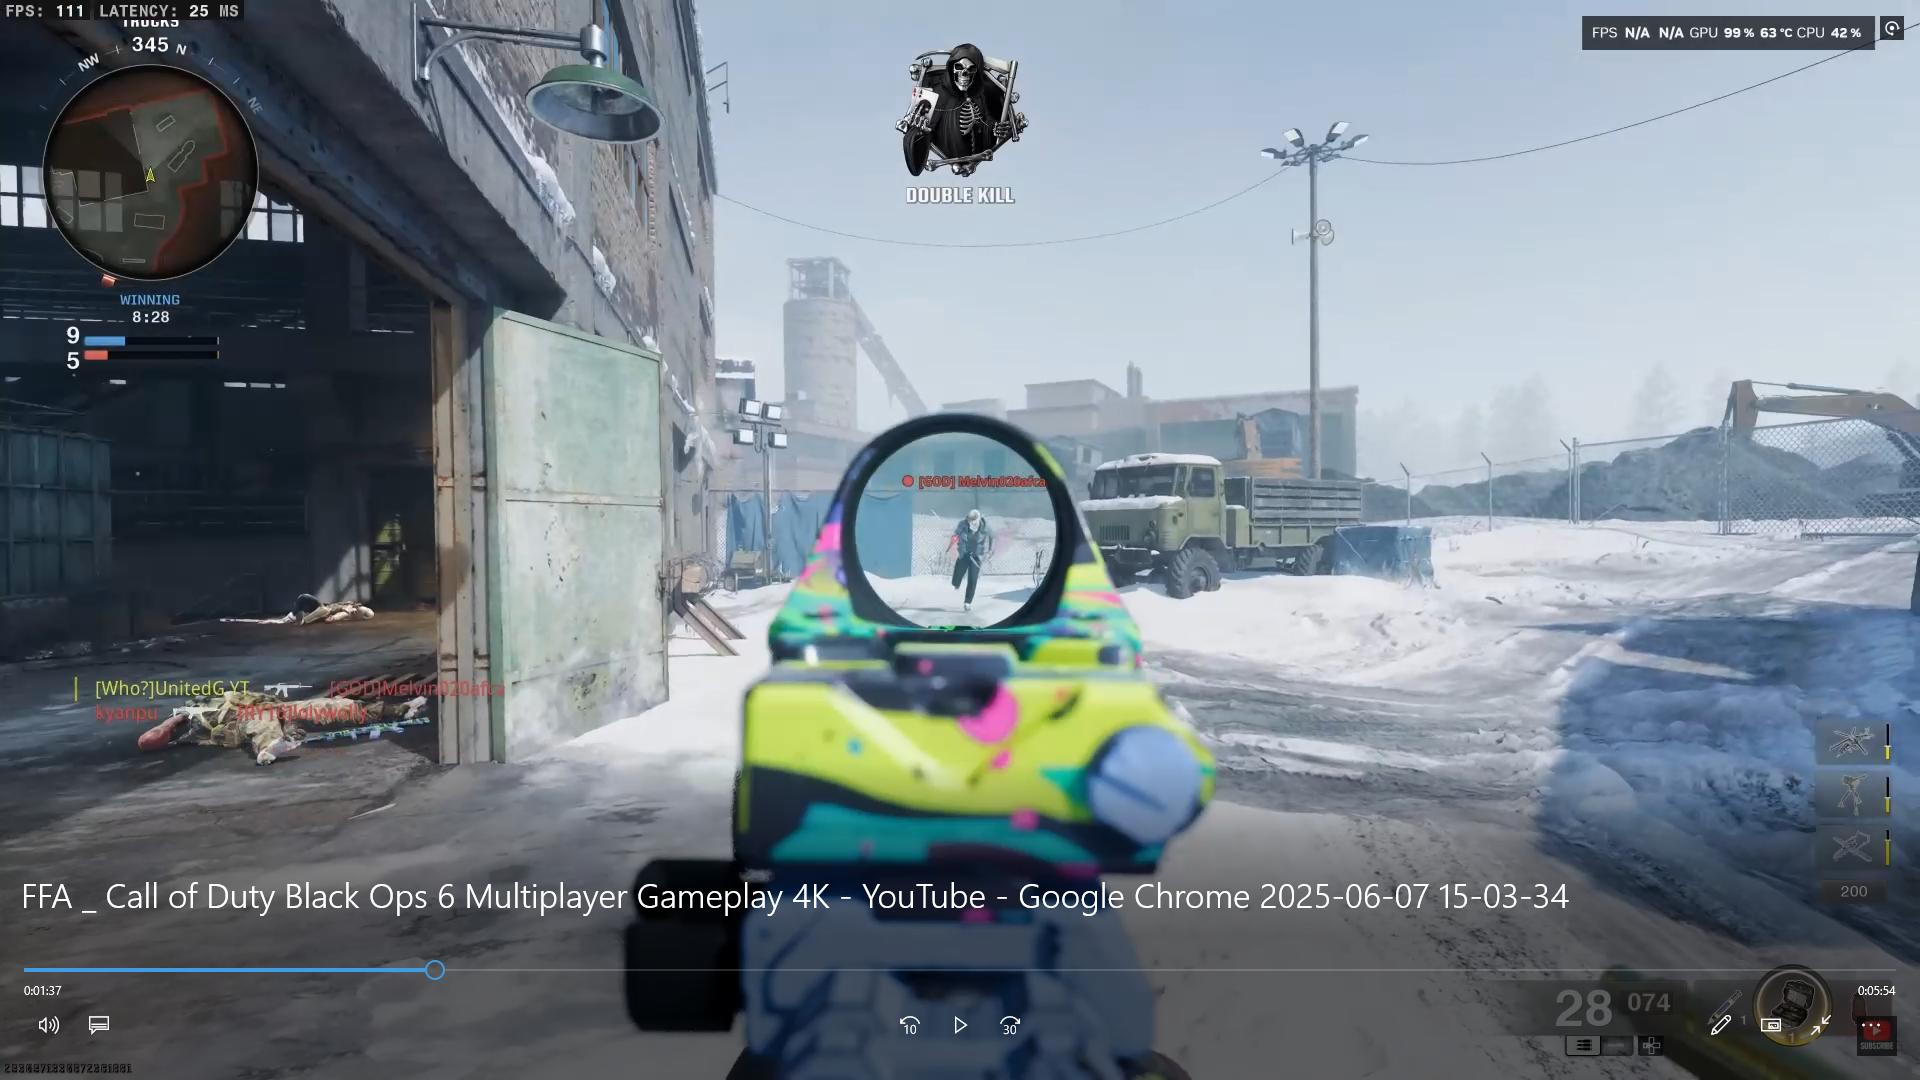Enemy: (940, 498, 998, 611)
